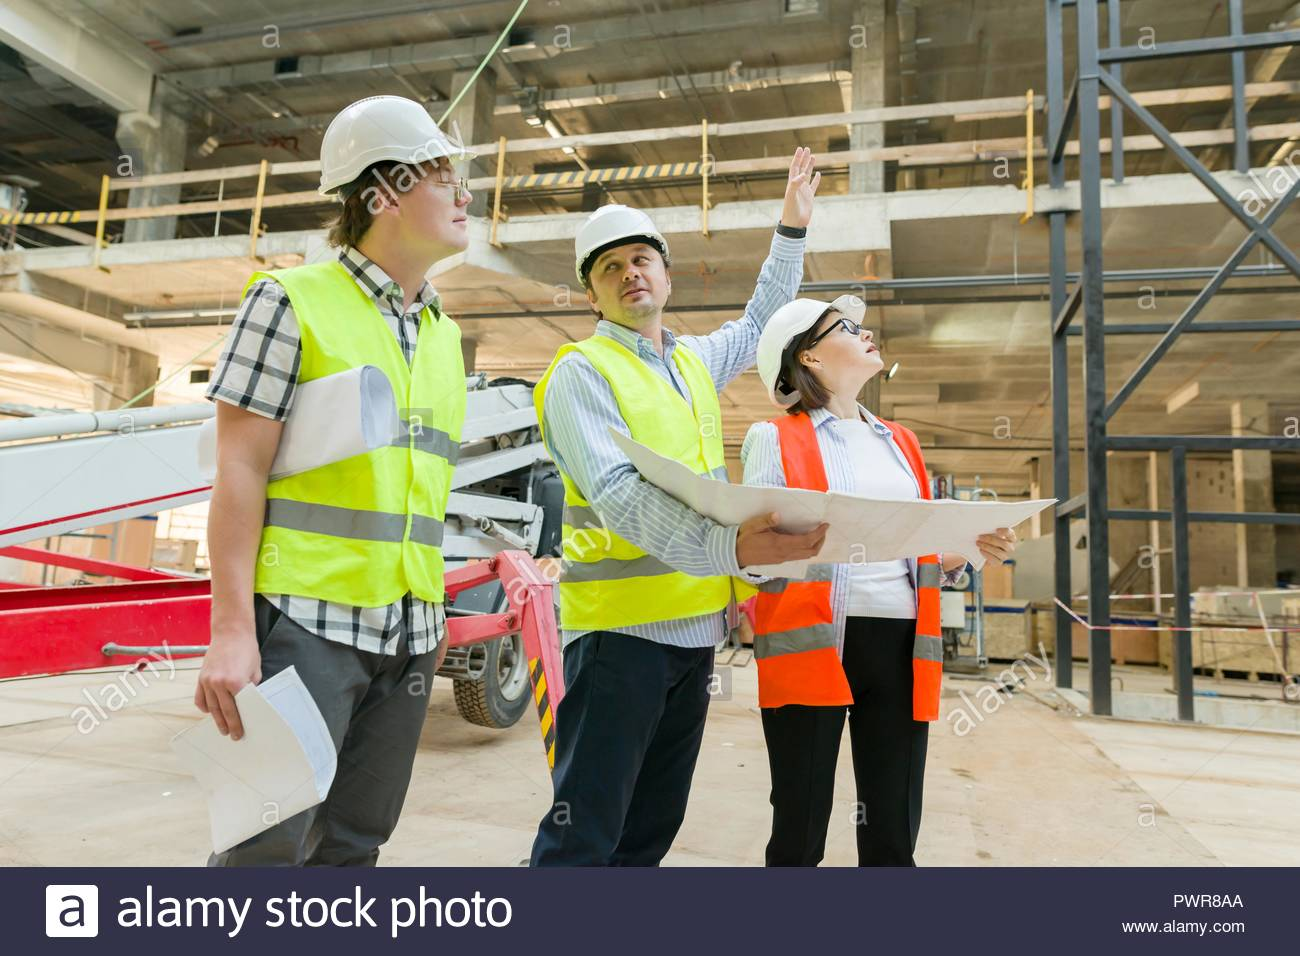casco: (314, 92, 473, 201), (754, 292, 870, 409), (572, 202, 672, 288)
